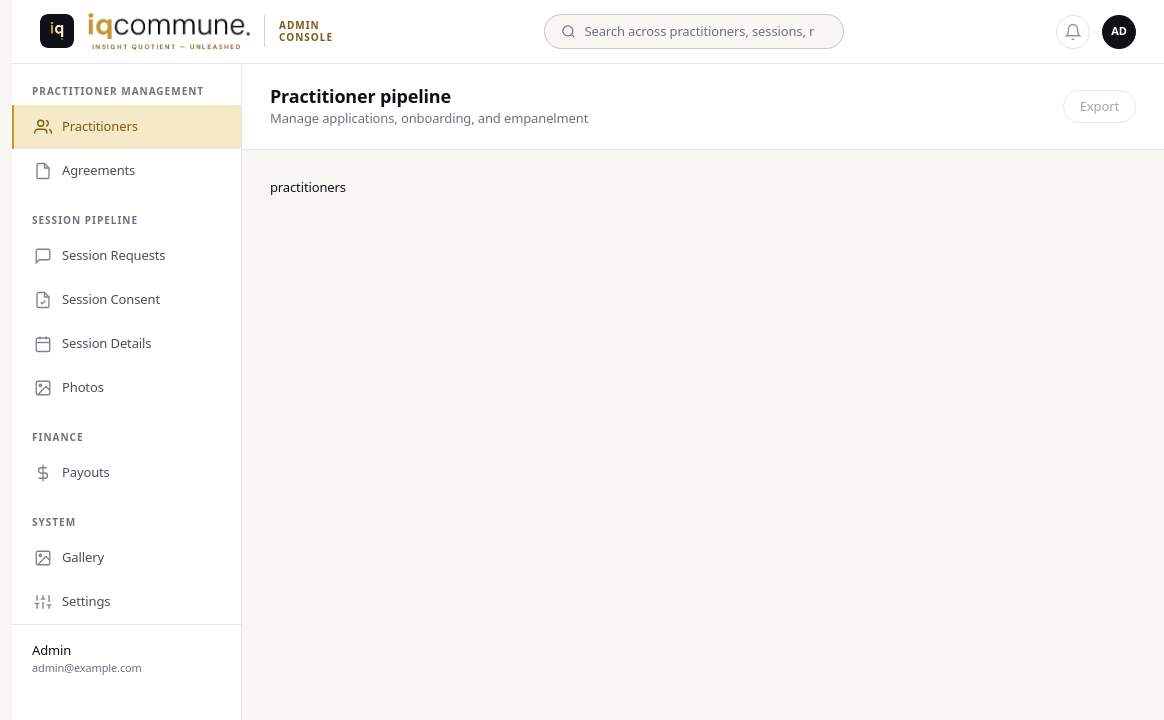
it: ConsoleShell — panel slot remounts on tab switch › does not carry the previous tab's component state into the newly active tab
Expected: the text with test id "probe" reads "practitioners", [270,178,346,196]
Click the button "Agreements": (126, 171) [12,149,241,193]
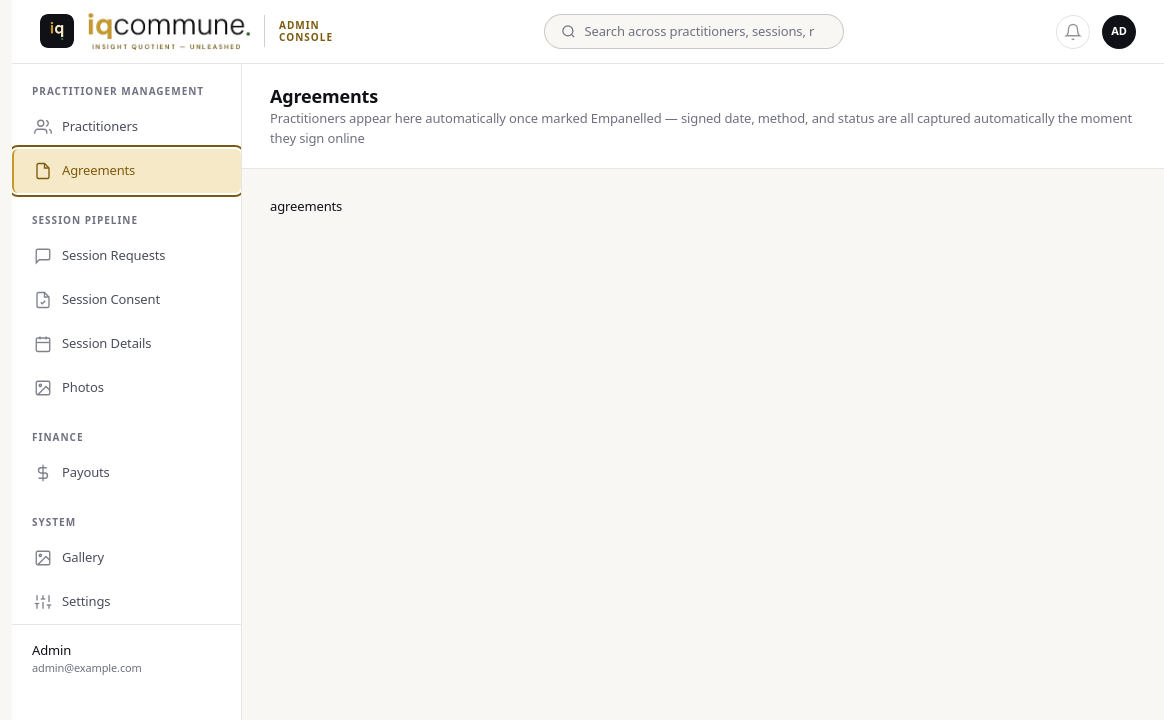
Result: the text with test id "probe" reads "agreements" at [270,197,342,215]
